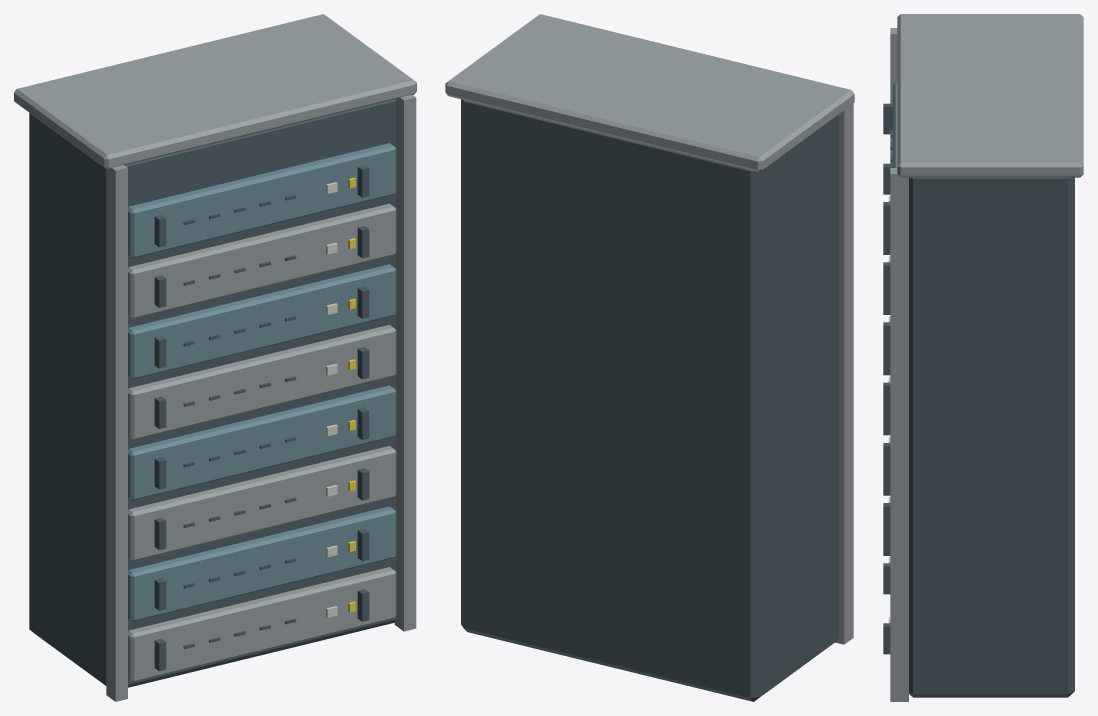
Rendered from cradle_archive_bank.glb.
The picture shows the model from 3 angles, left to right: view 1: azimuth 30°, elevation 25°; view 2: azimuth 150°, elevation 25°; view 3: azimuth 270°, elevation 25°; orthographic projection. The views are drawn at different scales.
Visible parts, largest first — view 1: deepsteel, steel.006, bluecase, bluecase.001, bluecase.002, bluecase.003, steel.003, steel.005, steel.002, steel.004, steel, steel.001; view 2: deepsteel, steel.006, steel; view 3: deepsteel, steel.006, steel.001, steel, bluecase.003.
Boxes of the visible parts, x1,y1,x2,y2 form: deepsteel: (29, 99, 395, 687); steel.006: (14, 14, 416, 169); bluecase: (128, 506, 396, 621); bluecase.001: (128, 385, 396, 500); bluecase.002: (128, 264, 396, 379); bluecase.003: (128, 143, 396, 258); steel.003: (128, 446, 396, 561); steel.005: (128, 203, 396, 318); steel.002: (128, 567, 396, 682); steel.004: (128, 324, 396, 439); steel: (106, 165, 127, 701); steel.001: (394, 94, 416, 631); deepsteel: (461, 99, 838, 701); steel.006: (445, 14, 854, 171); steel: (835, 103, 853, 644); deepsteel: (909, 177, 1074, 697); steel.006: (897, 14, 1083, 177); steel.001: (890, 168, 908, 701); steel: (890, 28, 897, 163); bluecase.003: (892, 83, 897, 167).
Size of the model in its own units: 3.08 by 5.12 by 1.72.
